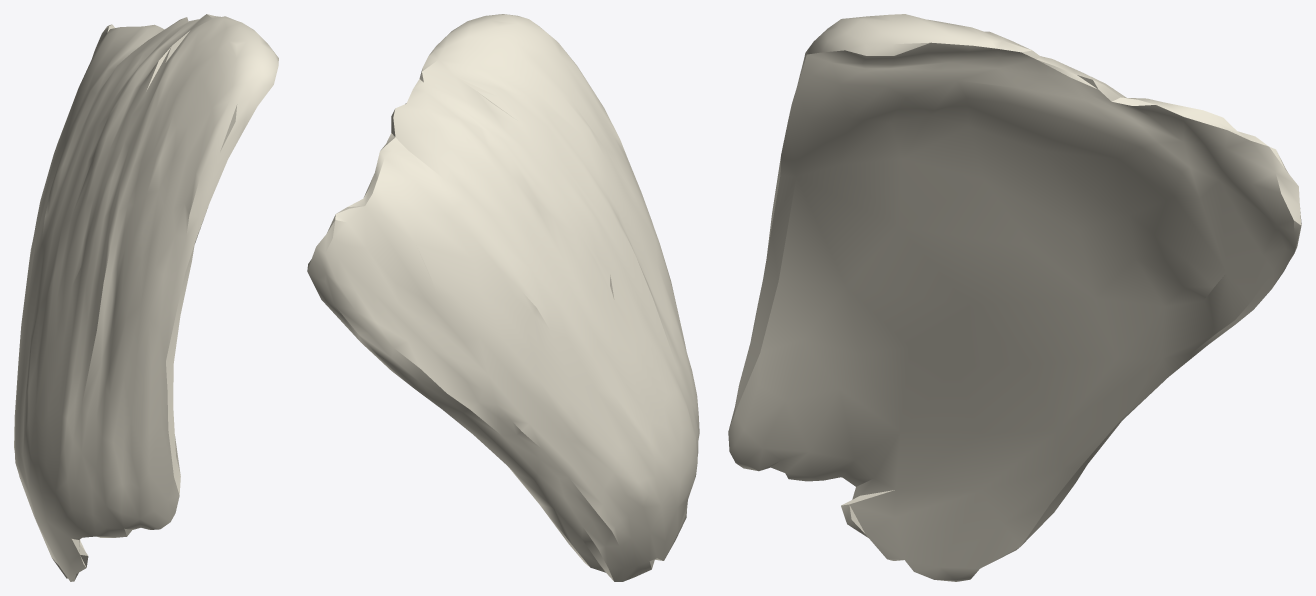
File: fma326800-r_mm1487m.glb
3 renders of one model, left to right at view 1: azimuth 30°, elevation 25°; view 2: azimuth 150°, elevation 25°; view 3: azimuth 270°, elevation 25°, orthographic. The views are drawn at different scales.
Visible parts, largest first — view 1: FMA326800-R_MM1487M; view 2: FMA326800-R_MM1487M; view 3: FMA326800-R_MM1487M.
Part boxes in pixels (x1=…): FMA326800-R_MM1487M: x1=14, y1=14, x2=278, y2=581; FMA326800-R_MM1487M: x1=307, y1=14, x2=699, y2=581; FMA326800-R_MM1487M: x1=728, y1=14, x2=1301, y2=581.
Bounding box in the file's own units: 0.00771 × 0.0166 × 0.013.
